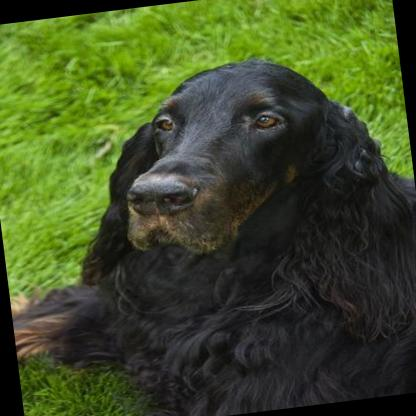Gordon_setter: (0, 40, 416, 416)
